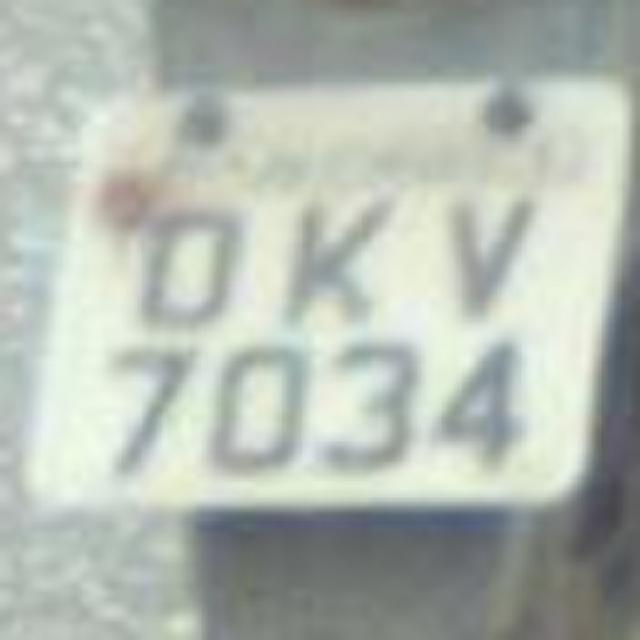0: (176, 312, 329, 496)
3: (292, 320, 432, 488)
4: (420, 316, 545, 492)
7: (68, 324, 204, 504)
D: (111, 171, 264, 344)
N: (248, 180, 412, 335)
Y: (420, 172, 540, 340)
